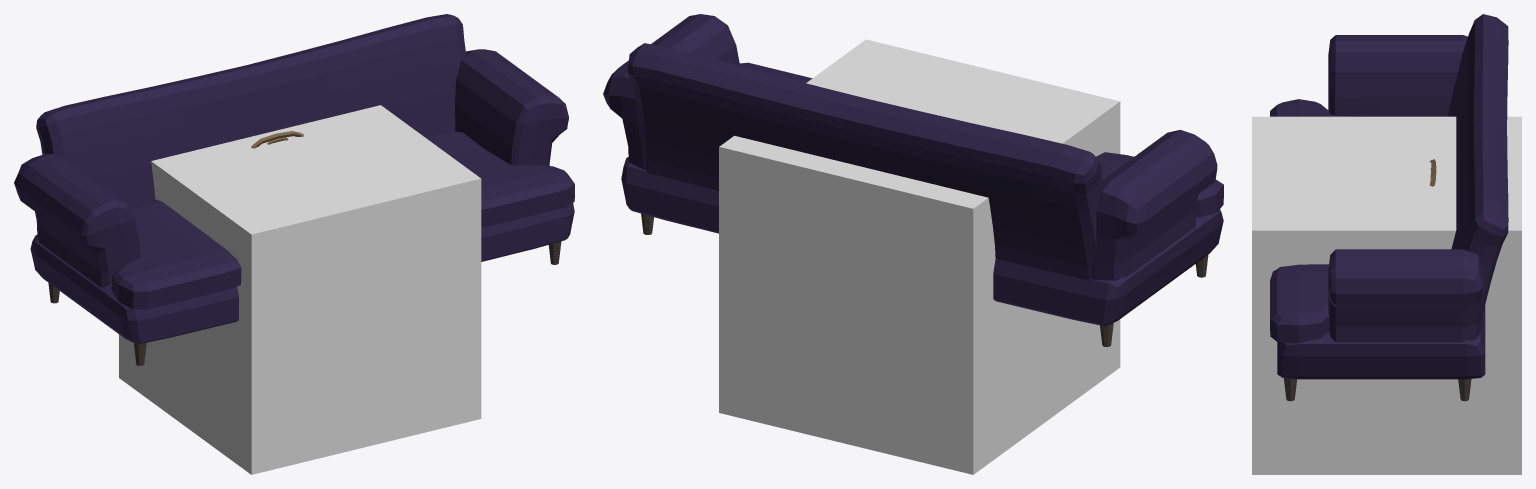
Rendered from midcentury_sofa.glb.
The picture shows the model from 3 angles, left to right: view 1: azimuth 30°, elevation 25°; view 2: azimuth 150°, elevation 25°; view 3: azimuth 270°, elevation 25°; orthographic projection. The views are drawn at different scales.
Parts seen in each view (by area): view 1: Cube, Sofa; view 2: Cube, Sofa; view 3: Cube, Sofa.
Part boxes in pixels (x1,y1,x2,y2): Cube: (119, 105, 481, 474); Sofa: (14, 14, 574, 365); Cube: (719, 39, 1120, 474); Sofa: (603, 14, 1223, 346); Cube: (1252, 116, 1521, 474); Sofa: (1270, 14, 1508, 401).
Size of the model in its own units: 4.24 by 2.5 by 2.
